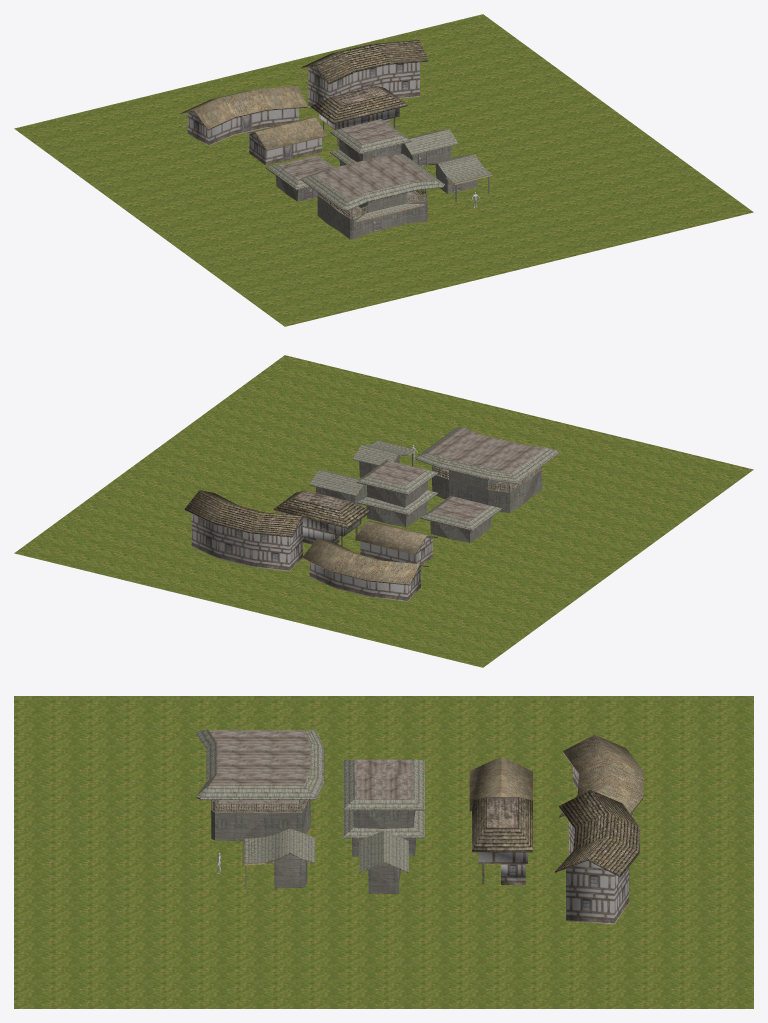
Rendered from lowpoly.glb.
The picture shows the model from 3 angles, top to bottom: view 1: azimuth 30°, elevation 25°; view 2: azimuth 150°, elevation 25°; view 3: azimuth 270°, elevation 25°; orthographic projection. The views are drawn at different scales.
Parts seen in each view (by area): view 1: Plane, Cube.015, Cube.005, Cube.001, Cube.003, Cube, Cube.014, Cube.008, Cube.002, Cube.004; view 2: Plane, Cube.015, Cube.005, Cube.001, Cube.014, Cube.003, Cube, Cube.008, Cube.004, Cube.002; view 3: Plane, Cube.015, Cube.005, Cube.014, Cube.003, Cube.001, Cube.002, Cube.004, Cube, Cube.008.
Part boxes in pixels (x1=…): Plane: x1=14, y1=14, x2=753, y2=326; Cube.015: x1=300, y1=153, x2=445, y2=239; Cube.005: x1=301, y1=40, x2=428, y2=106; Cube.001: x1=180, y1=86, x2=307, y2=145; Cube.003: x1=311, y1=86, x2=407, y2=146; Cube: x1=244, y1=117, x2=326, y2=165; Cube.014: x1=330, y1=119, x2=411, y2=165; Cube.008: x1=266, y1=155, x2=334, y2=201; Cube.002: x1=428, y1=154, x2=492, y2=202; Cube.004: x1=401, y1=129, x2=458, y2=166; Plane: x1=14, y1=355, x2=753, y2=667; Cube.015: x1=414, y1=427, x2=559, y2=512; Cube.005: x1=184, y1=490, x2=310, y2=571; Cube.001: x1=302, y1=538, x2=428, y2=601; Cube.014: x1=356, y1=460, x2=437, y2=527; Cube.003: x1=273, y1=490, x2=370, y2=546; Cube: x1=355, y1=521, x2=437, y2=564; Cube.008: x1=420, y1=496, x2=501, y2=542; Cube.004: x1=309, y1=470, x2=366, y2=505; Cube.002: x1=352, y1=440, x2=416, y2=477; Plane: x1=14, y1=696, x2=753, y2=1008; Cube.015: x1=196, y1=730, x2=324, y2=841; Cube.005: x1=555, y1=790, x2=639, y2=924; Cube.014: x1=343, y1=774, x2=424, y2=856; Cube.003: x1=472, y1=797, x2=532, y2=884; Cube.001: x1=559, y1=734, x2=643, y2=817; Cube.002: x1=242, y1=828, x2=314, y2=889; Cube.004: x1=359, y1=830, x2=408, y2=894; Cube: x1=469, y1=757, x2=532, y2=812; Cube.008: x1=343, y1=759, x2=424, y2=774.
Size of the model in its own units: 60 by 7.15 by 60.
15 materials, 14 textured.
